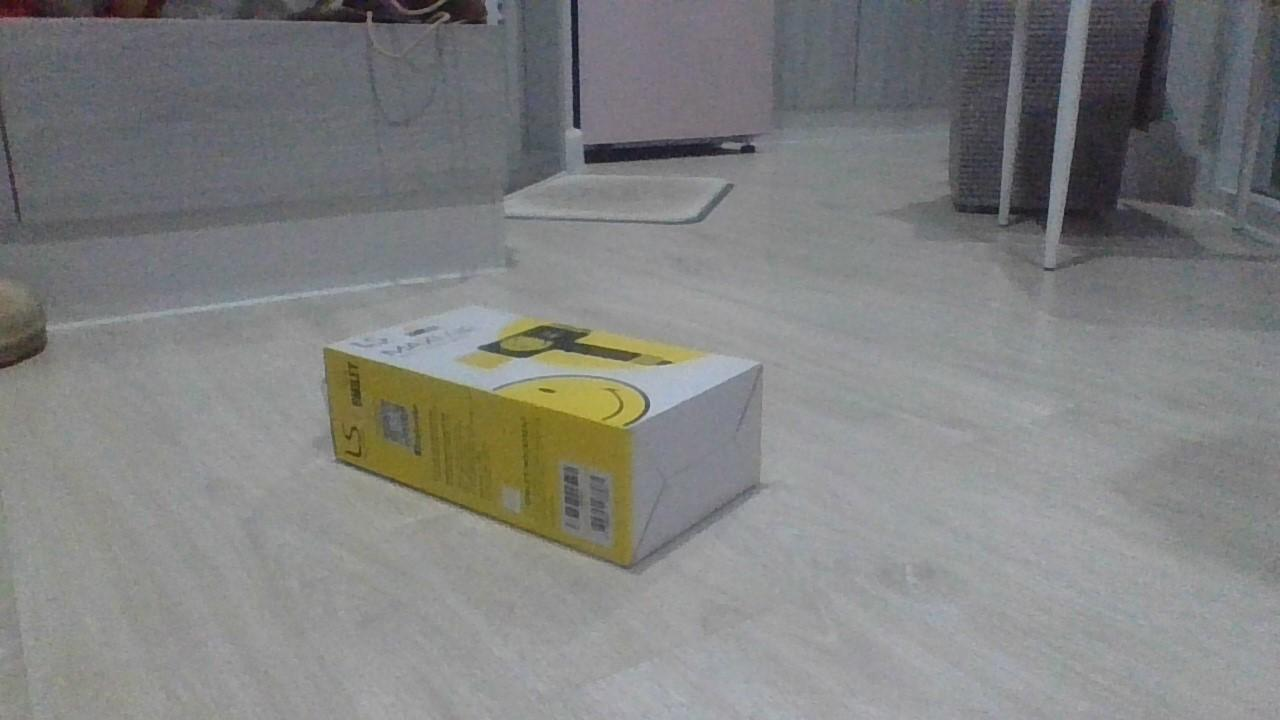Dryer: (318, 299, 769, 571)
